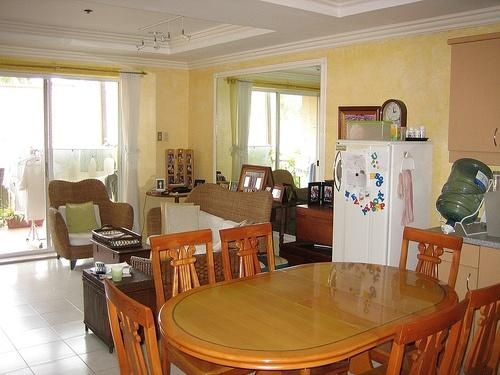chair: (148, 227, 258, 375), (367, 226, 465, 365), (358, 298, 472, 375), (47, 177, 136, 273), (104, 275, 165, 375), (220, 221, 279, 284), (464, 281, 500, 375)
diningtable: (157, 261, 462, 375)
sofa: (146, 181, 276, 257)
